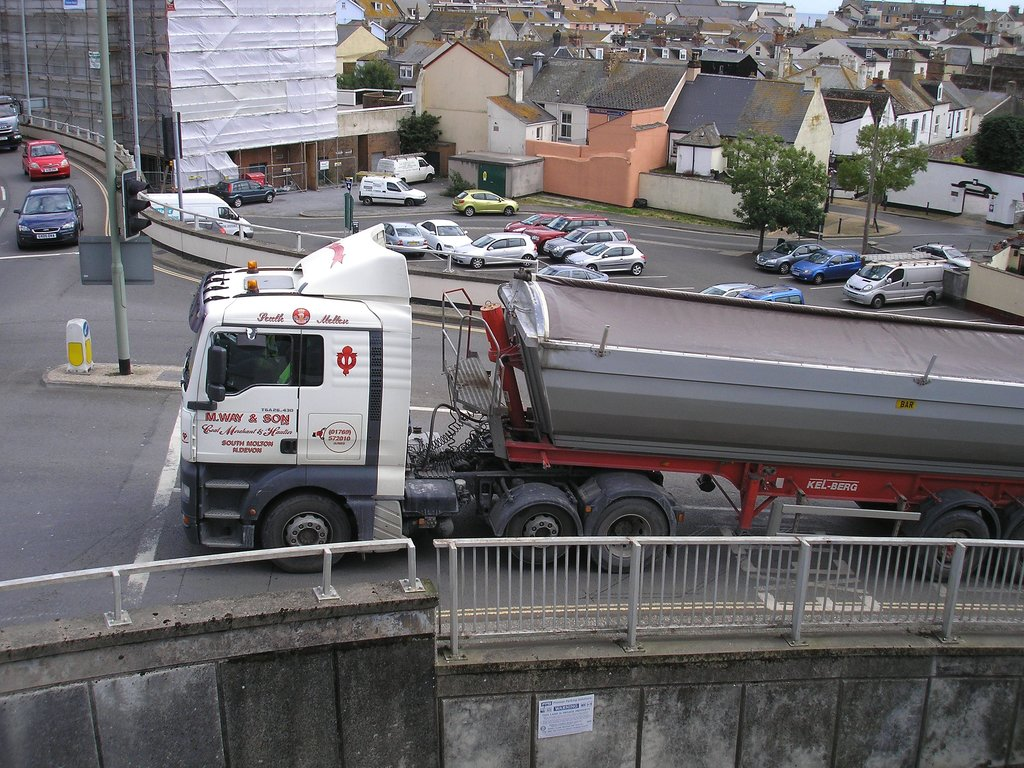Car: (380, 206, 645, 283), (702, 237, 865, 304), (8, 185, 87, 245), (354, 173, 423, 207), (18, 135, 70, 176), (222, 177, 277, 207), (0, 94, 32, 145), (457, 189, 513, 216), (0, 181, 13, 226)
